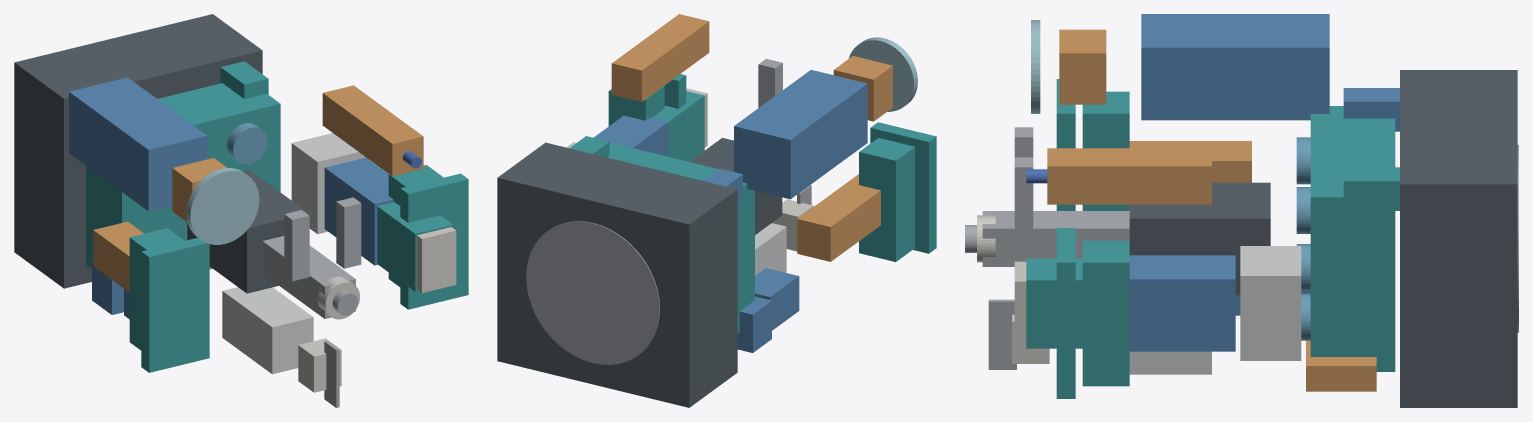
File: dranmar_tumor_resection_tool_inspect.glb
The picture shows the model from 3 angles, left to right: view 1: azimuth 30°, elevation 25°; view 2: azimuth 150°, elevation 25°; view 3: azimuth 270°, elevation 25°; orthographic projection. The views are drawn at different scales.
Visible parts, largest first — view 1: Mount_MountBody, BagDeployer_BagDeployerBody, SensorTurret_SensorTurretBody, LeftTraction_LeftPad, ScissorCarriage_ScissorCarriageBody, MarginMarker_MarginMarkerBody, RightTraction_RightPad, AspiratorCarriage_AspiratorCarriageBody, BagDeployer_BagRing, UltrasoundPitch_UltrasoundPitchBody, UltrasoundCarriage_UltrasoundCarriageBody, UltrasoundCompliance_UltrasoundComplianceBody (+15 smaller); view 2: Mount_MountBody, Mount_MountRing, BagDeployer_BagDeployerBody, LeftTraction_LeftTractionBody, MarginMarker_MarginMarkerBody, RamanProbe_RamanProbeBody, SensorTurret_SensorTurretBody, LeftTraction_LeftPad, UltrasoundCompliance_UltrasoundComplianceBody, BagDeployer_BagRing, BagClosure_BagClosureBody, UltrasoundPitch_UltrasoundPitchBody (+10 smaller); view 3: Mount_MountBody, BagDeployer_BagDeployerBody, SensorTurret_SensorTurretBody, UltrasoundPitch_UltrasoundPitchBody, MarginMarker_MarginMarkerBody, AspiratorCarriage_AspiratorCarriageBody, UltrasoundCarriage_UltrasoundCarriageBody, RightTraction_RightTractionBody, AspiratorRotor_AspiratorRotorBody, BagClosure_BagClosureBody, UltrasoundCompliance_UltrasoundComplianceBody, RightTraction_RightPad (+16 smaller).
Part boxes in pixels (x1,y1,x2,y2): Mount_MountBody: (14,14,262,288); BagDeployer_BagDeployerBody: (69,77,207,211); SensorTurret_SensorTurretBody: (86,83,280,269); LeftTraction_LeftPad: (141,237,209,372); ScissorCarriage_ScissorCarriageBody: (222,287,313,374); MarginMarker_MarginMarkerBody: (322,85,423,176); RightTraction_RightPad: (400,173,468,309); AspiratorCarriage_AspiratorCarriageBody: (187,169,309,293); BagDeployer_BagRing: (186,168,259,244); UltrasoundPitch_UltrasoundPitchBody: (324,157,393,265); UltrasoundCarriage_UltrasoundCarriageBody: (291,133,365,234); UltrasoundCompliance_UltrasoundComplianceBody: (377,202,453,291); Mount_MountBody: (497,142,737,407); Mount_MountRing: (526,221,659,364); BagDeployer_BagDeployerBody: (734,70,867,199); LeftTraction_LeftTractionBody: (859,138,914,261); MarginMarker_MarginMarkerBody: (611,14,709,101); RamanProbe_RamanProbeBody: (797,174,880,261); SensorTurret_SensorTurretBody: (607,142,754,333); LeftTraction_LeftPad: (870,122,936,253); UltrasoundCompliance_UltrasoundComplianceBody: (652,91,704,161); BagDeployer_BagRing: (848,37,917,111); BagClosure_BagClosureBody: (833,56,892,121); UltrasoundPitch_UltrasoundPitchBody: (593,115,668,156); Mount_MountBody: (1400,70,1517,407); BagDeployer_BagDeployerBody: (1141,14,1329,120); SensorTurret_SensorTurretBody: (1310,106,1395,371); UltrasoundPitch_UltrasoundPitchBody: (1129,255,1235,351); MarginMarker_MarginMarkerBody: (1047,148,1211,204); AspiratorCarriage_AspiratorCarriageBody: (1129,182,1270,295); UltrasoundCarriage_UltrasoundCarriageBody: (1240,246,1301,360); RightTraction_RightTractionBody: (1082,240,1129,386); AspiratorRotor_AspiratorRotorBody: (982,211,1129,266); BagClosure_BagClosureBody: (1059,29,1106,104); UltrasoundCompliance_UltrasoundComplianceBody: (1026,258,1082,348); RightTraction_RightPad: (1056,228,1075,398).
Size of the model in its own units: 0.185 by 0.136 by 0.2355.
